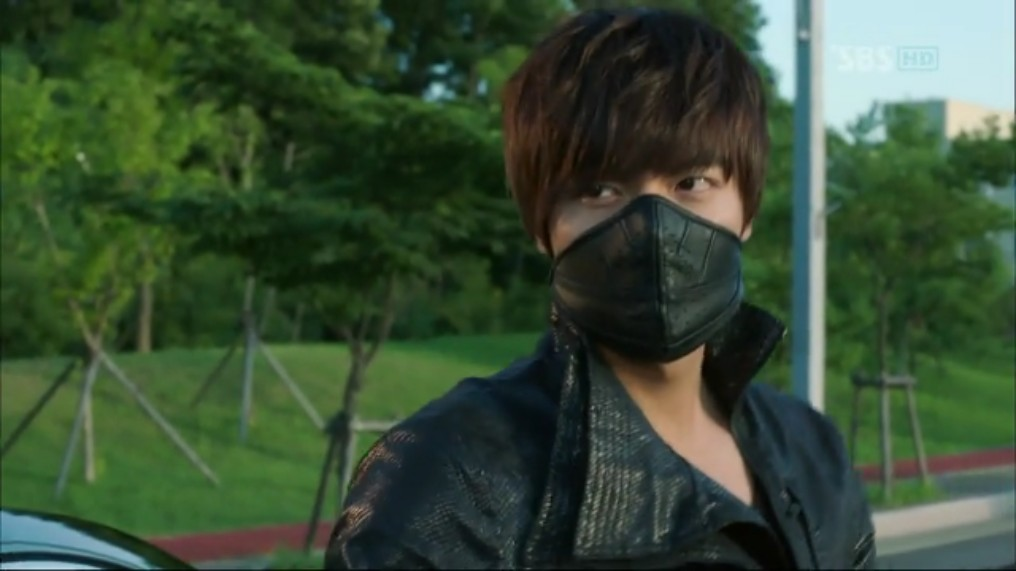face_mask: (552, 111, 748, 347)
